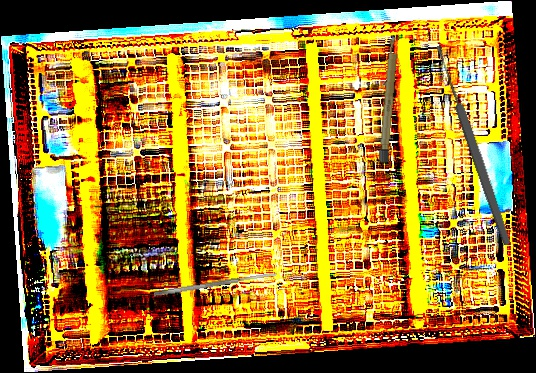Scalpel Handle: (378, 34, 400, 164)
Spatula Surgical: (153, 271, 278, 297)
Surgical Spoon: (433, 43, 513, 247)
